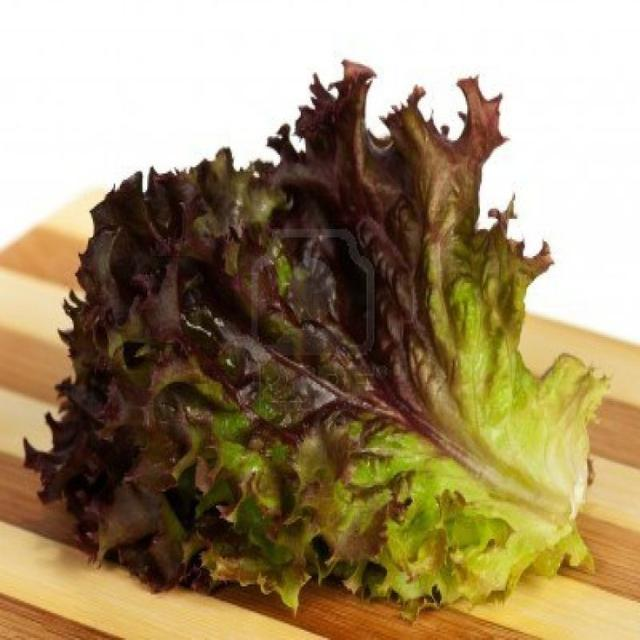lettuce: (27, 63, 606, 614)
